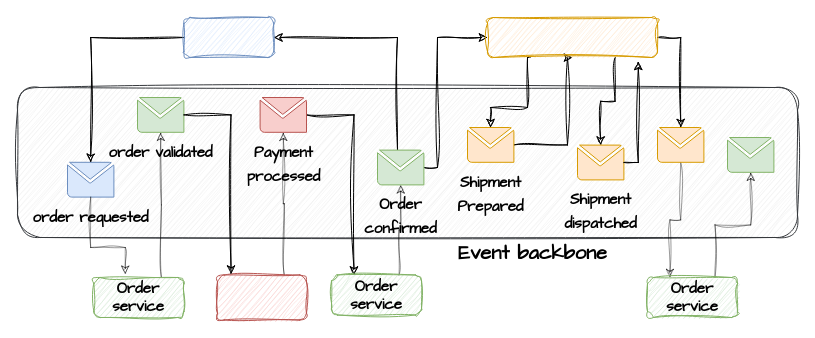
Some shapes in this 815 by 338 pixel diagram are drawn without their labels. Here are the shapes that lost their labels. From the top down, the centre of each, then its label:
At (228,37): "Basket service".
At (572,37): "Shipment service".
At (680,144): "Shipment delivered".
At (750,154): "Order completed".
At (261,297): "Payment service".
